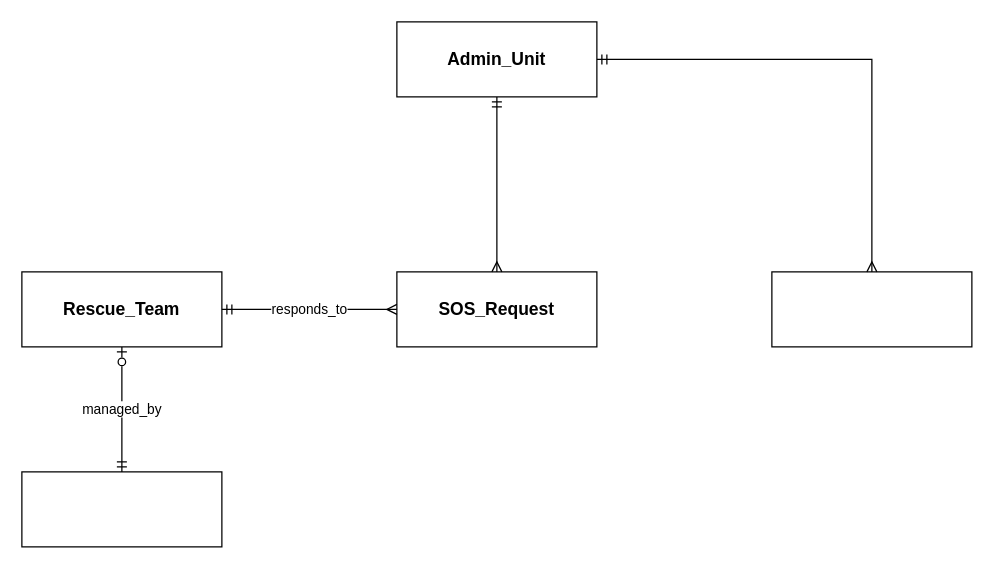
This 994x569 diagram has some shape labels left out. The box of each missing label's shape, as (x1, y1, x2, y2) in pixels:
Rescue_Resource: (771, 271, 972, 347)
User: (21, 471, 222, 547)
